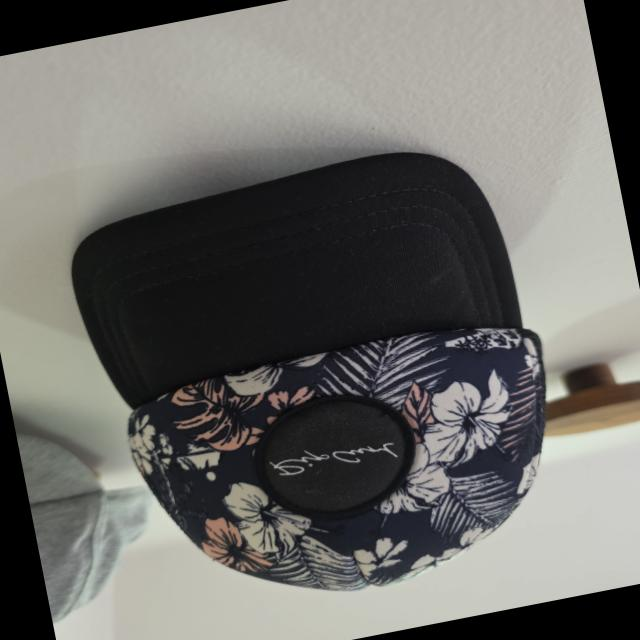Gorra: (57, 133, 588, 640)
